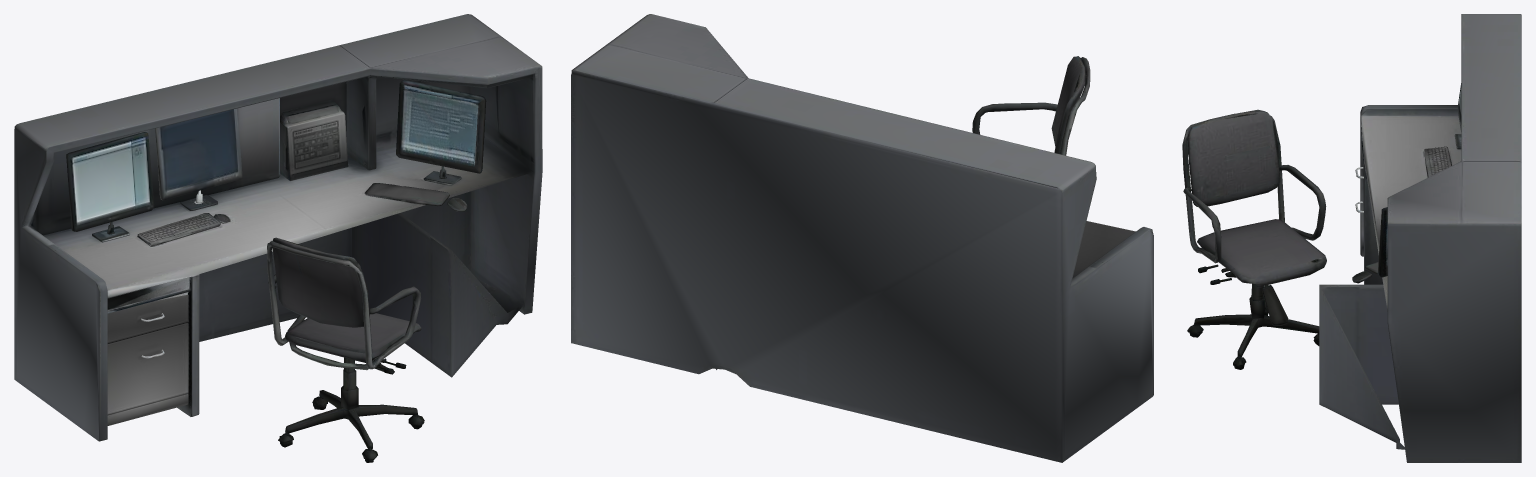
The model's file is trading_desk.glb.
3 views of the same model, side by side, from view 1: azimuth 30°, elevation 25°; view 2: azimuth 150°, elevation 25°; view 3: azimuth 270°, elevation 25° (orthographic). The views are drawn at different scales.
Parts seen in each view (by area): view 1: TesanaFacingY180; view 2: TesanaFacingY180; view 3: TesanaFacingY180.
Part boxes in pixels (box(x1,y1,x2,y2)): TesanaFacingY180: box(14, 14, 542, 462); TesanaFacingY180: box(571, 14, 1153, 462); TesanaFacingY180: box(1182, 14, 1521, 462).
Size of the model in its own units: 2.25 by 1.2 by 1.53.
1 material, 1 textured.
